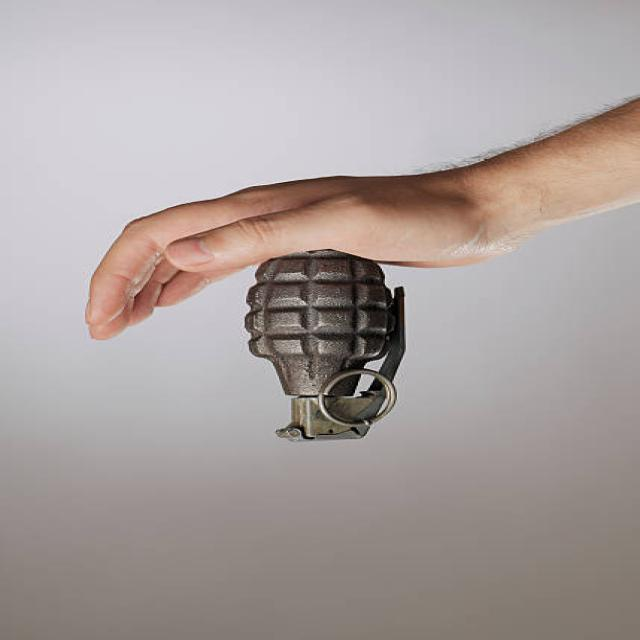grenade: (234, 252, 424, 448)
